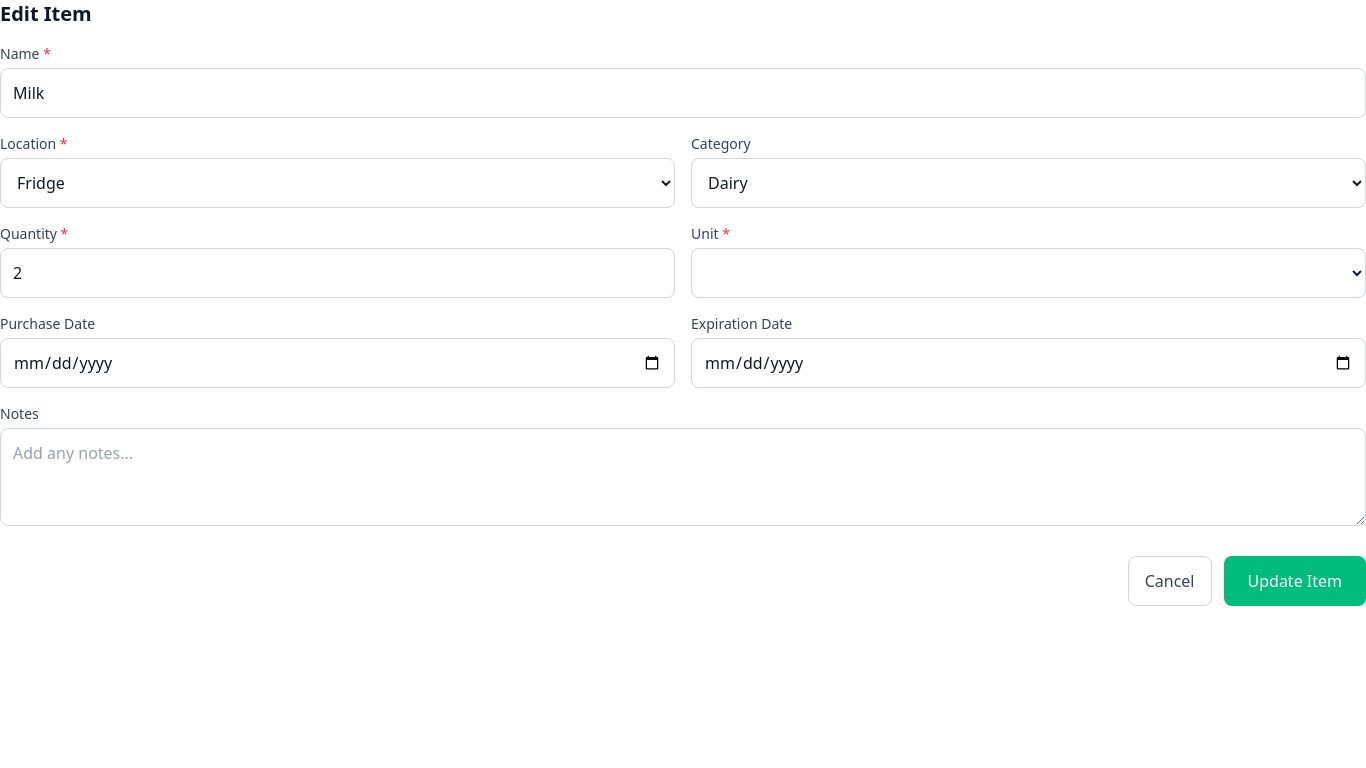
Test case: ItemForm › restores initial quantity when edit zero confirm is cancelled
This screenshot has width=1366, height=768.
Replace the text in the number field labelled "Quantity *" with "0" at (338, 273), box top-left (0, 248), bottom-right (675, 298)
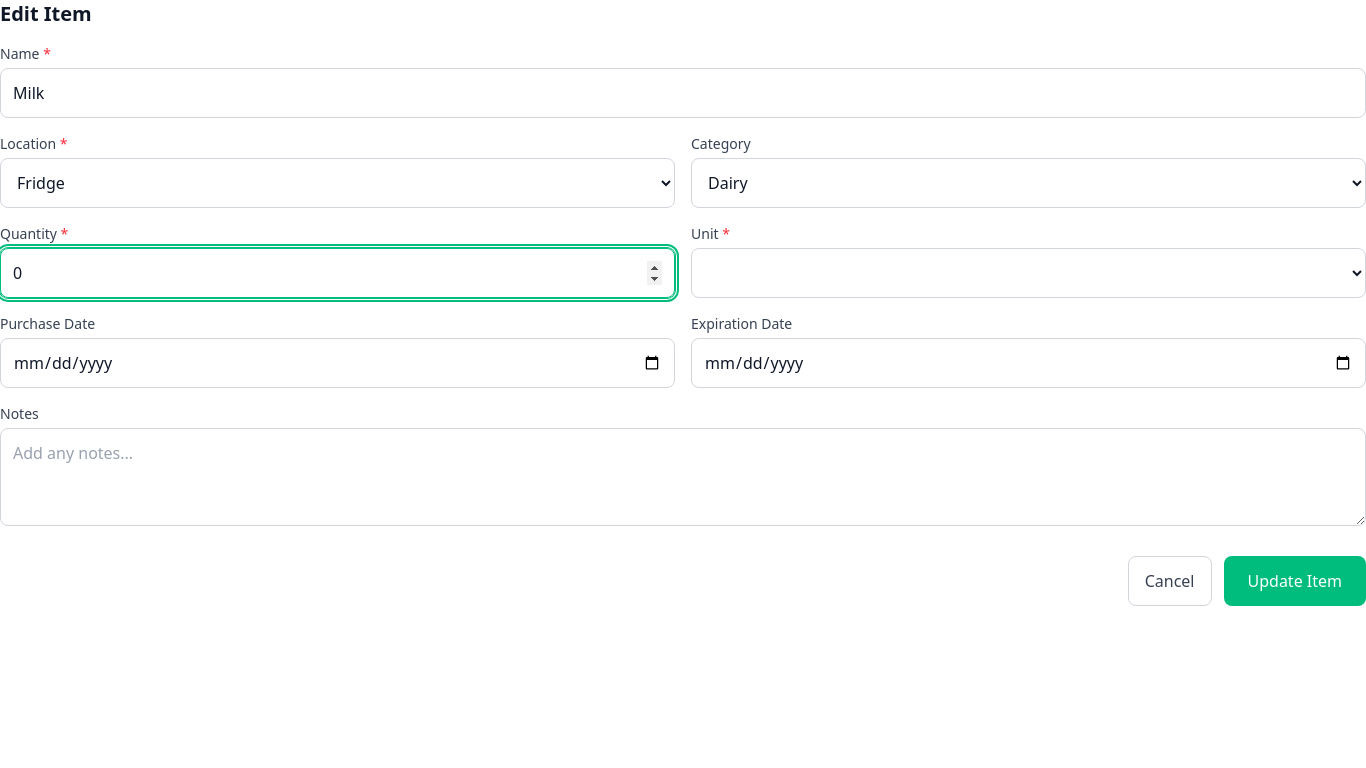
Click the button "Update Item" at (1295, 581), box top-left (1224, 556), bottom-right (1365, 606)
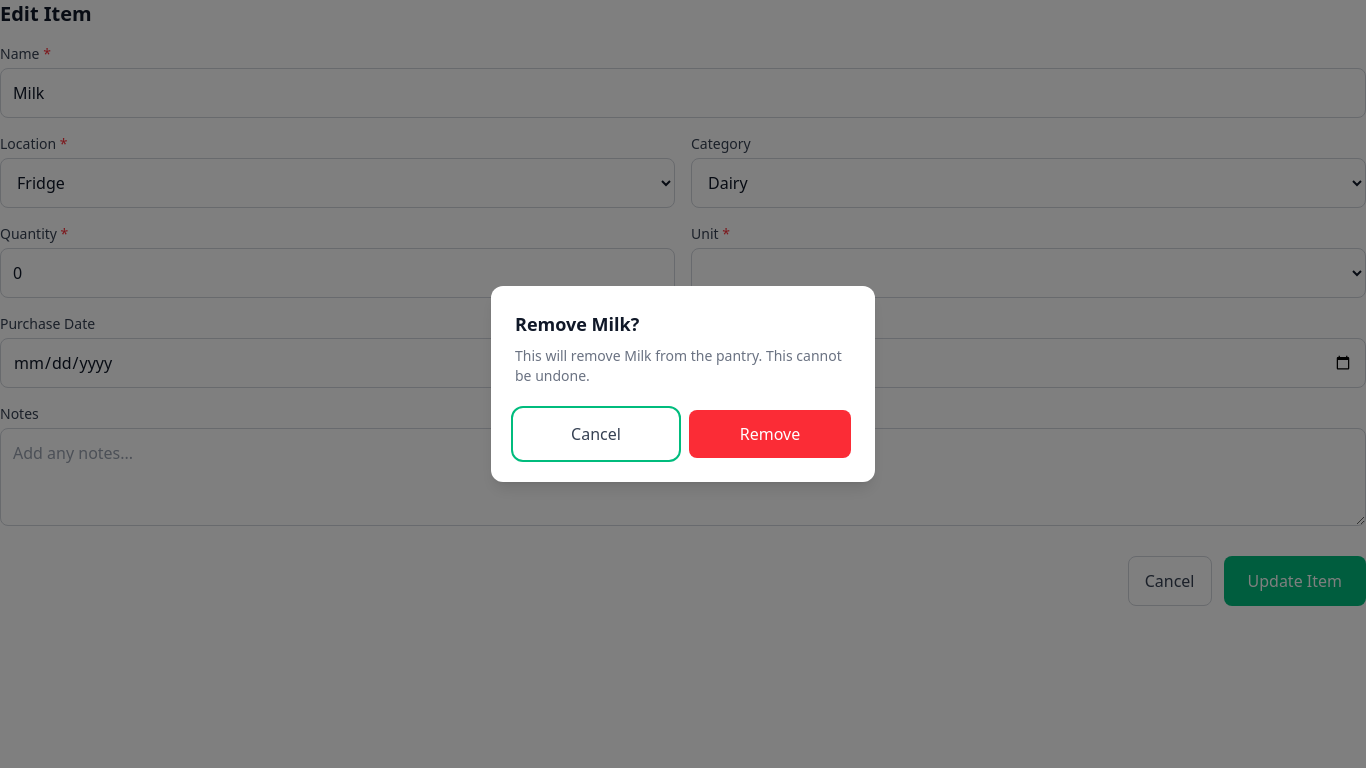
Click the button "Cancel" at (596, 434), box top-left (515, 410), bottom-right (677, 458)
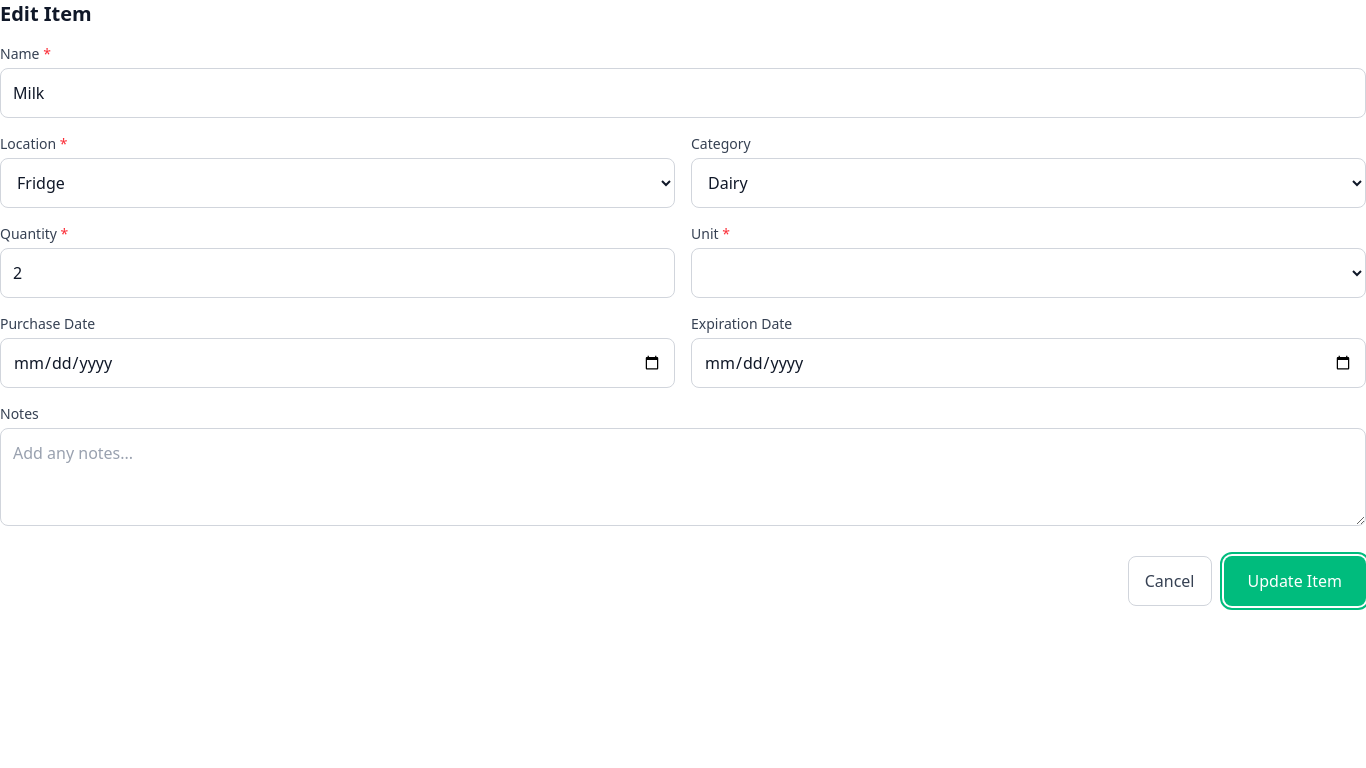
Check: the dialog is gone
Check: the number field labelled "Quantity *" holds "2", box top-left (0, 248), bottom-right (675, 298)
